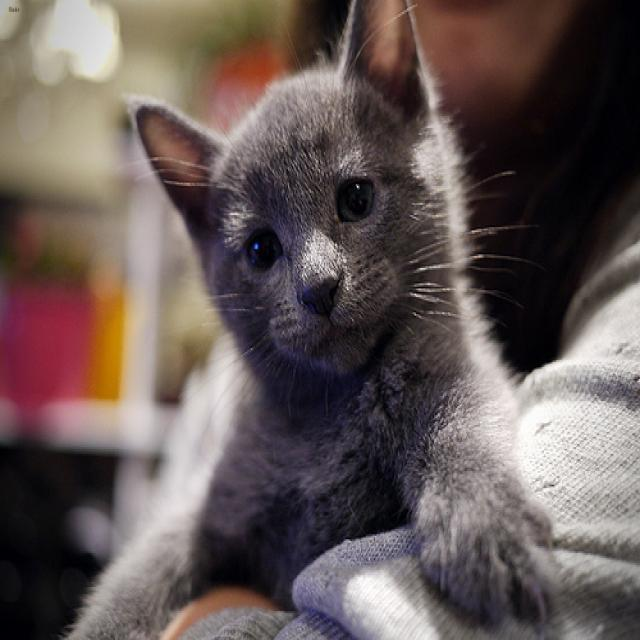Russian_Blue: (129, 0, 468, 385)
